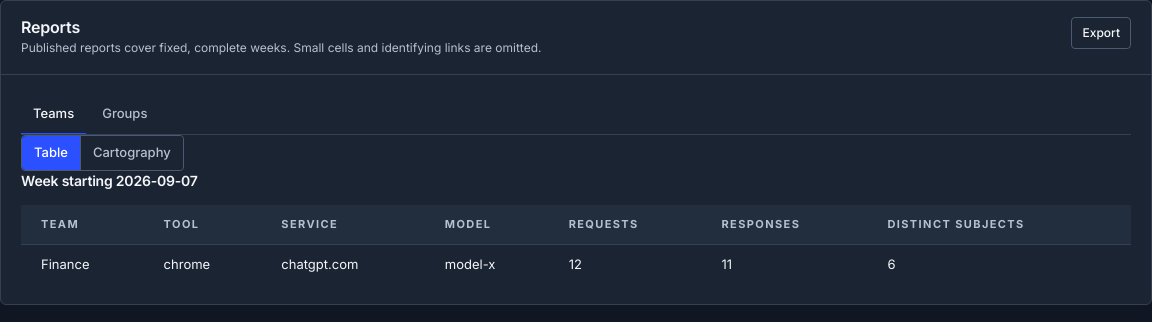
it: offers both breakdowns and switches the table between them
The width and height of the screenshot is (1152, 322).
Expected: the column heading "Team" is shown, 21,205 -> 148,245
Expected: the cell "Finance" is shown, 21,245 -> 148,284
Click the button "Groups" at point(125, 115), box 90,95 -> 159,135
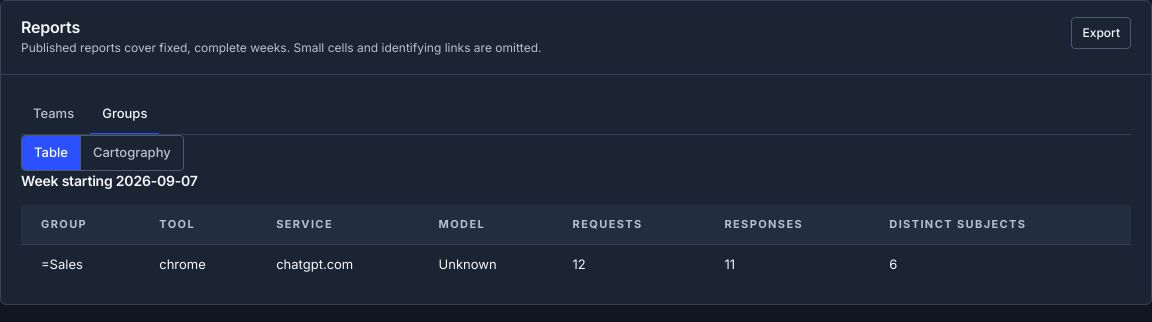
Result: the column heading "Group" is shown at 21,205 -> 143,245
Result: the cell "=Sales" is shown at 21,245 -> 143,284
Result: the cell "Finance" is gone
